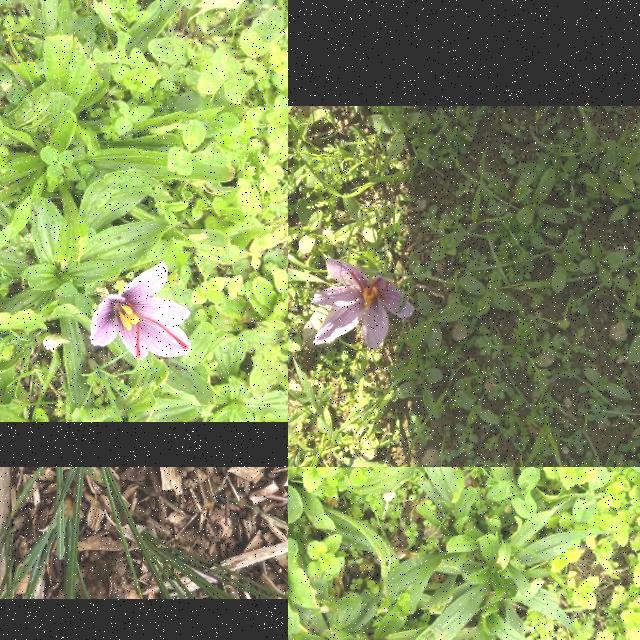flower: (90, 262, 192, 362), (310, 258, 416, 352)
